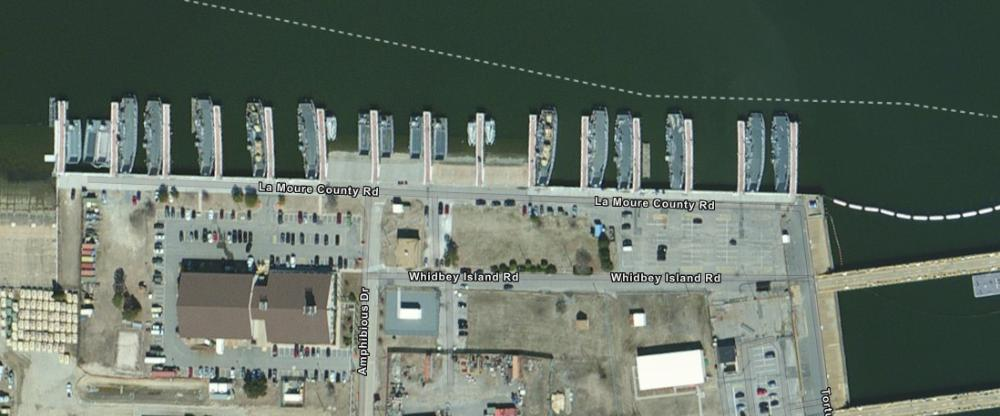barge: (141, 94, 172, 184), (737, 106, 766, 194), (661, 107, 690, 192), (532, 101, 559, 191), (244, 100, 272, 185), (769, 109, 796, 196), (294, 96, 321, 181), (193, 95, 218, 179), (115, 92, 139, 179), (586, 100, 609, 190), (613, 110, 636, 195)
